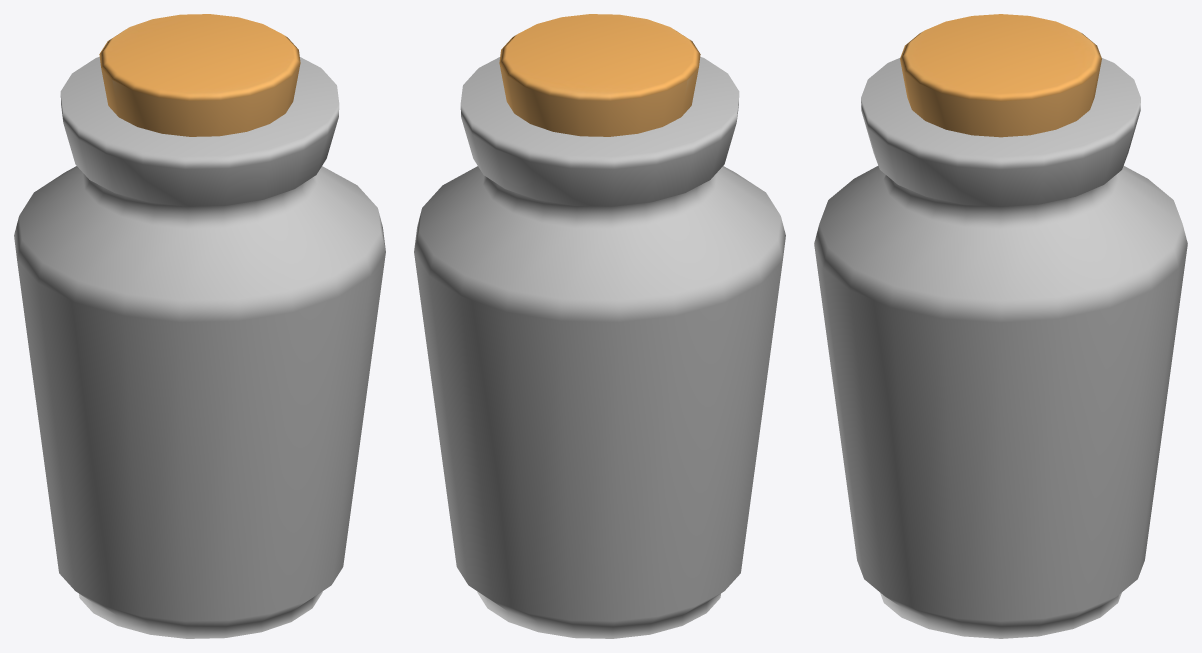
The model's file is potion.fbx.
The picture shows the model from 3 angles, left to right: view 1: azimuth 30°, elevation 25°; view 2: azimuth 150°, elevation 25°; view 3: azimuth 270°, elevation 25°; orthographic projection.
Visible parts, largest first — view 1: glass, cork; view 2: glass, cork; view 3: glass, cork.
Boxes of the visible parts, x1,y1,x2,y2 form: glass: (14, 57, 385, 638); cork: (99, 14, 300, 136); glass: (414, 57, 785, 638); cork: (499, 14, 700, 136); glass: (814, 58, 1187, 638); cork: (900, 14, 1101, 137).
Size of the model in its own units: 8.71 by 13.71 by 8.71.
